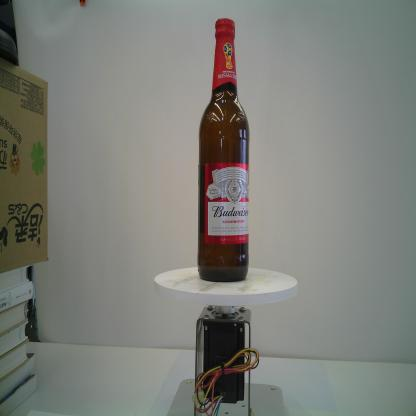Alcohol: (195, 15, 251, 283)
